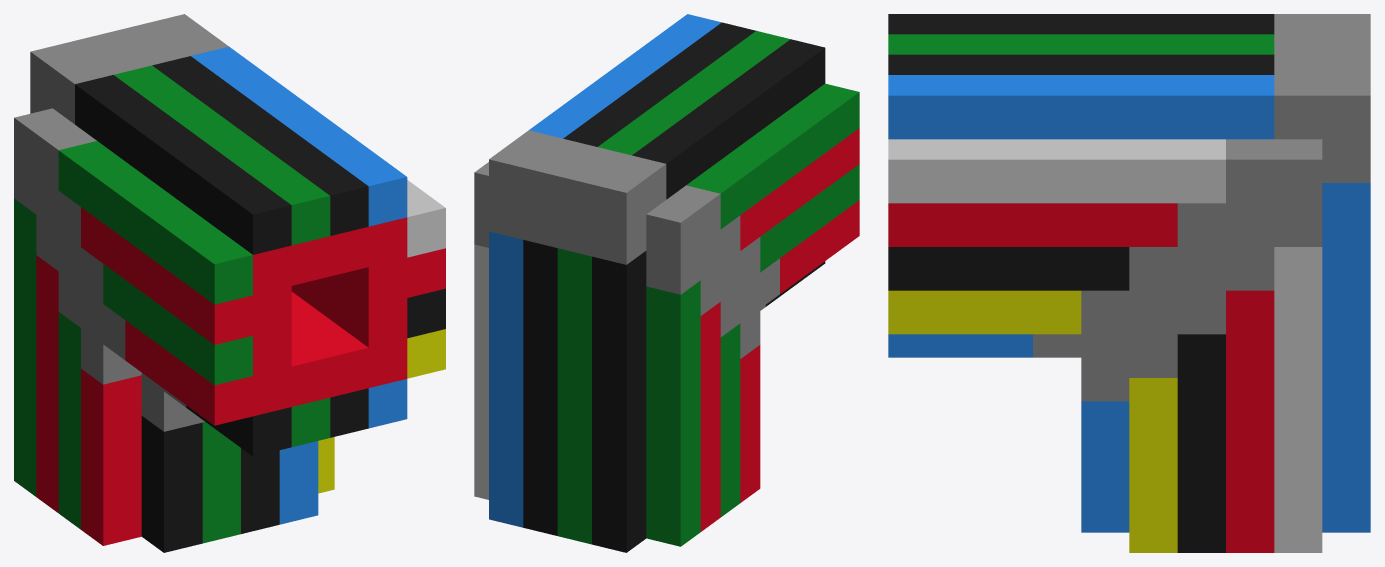
File: wires_elbow 1.obj
The picture shows the model from 3 angles, left to right: view 1: azimuth 30°, elevation 25°; view 2: azimuth 150°, elevation 25°; view 3: azimuth 270°, elevation 25°; orthographic projection. The views are drawn at different scales.
Visible parts, largest first — view 1: wires_elbow; view 2: wires_elbow; view 3: wires_elbow.
Boxes of the visible parts, box(x1,y1,x2,y2) form: wires_elbow: box(14, 14, 445, 552); wires_elbow: box(474, 14, 859, 552); wires_elbow: box(888, 14, 1370, 552).
Bounding box in the file's own units: 6 × 10 × 10.
Materials: 1 (1 with a texture image).
